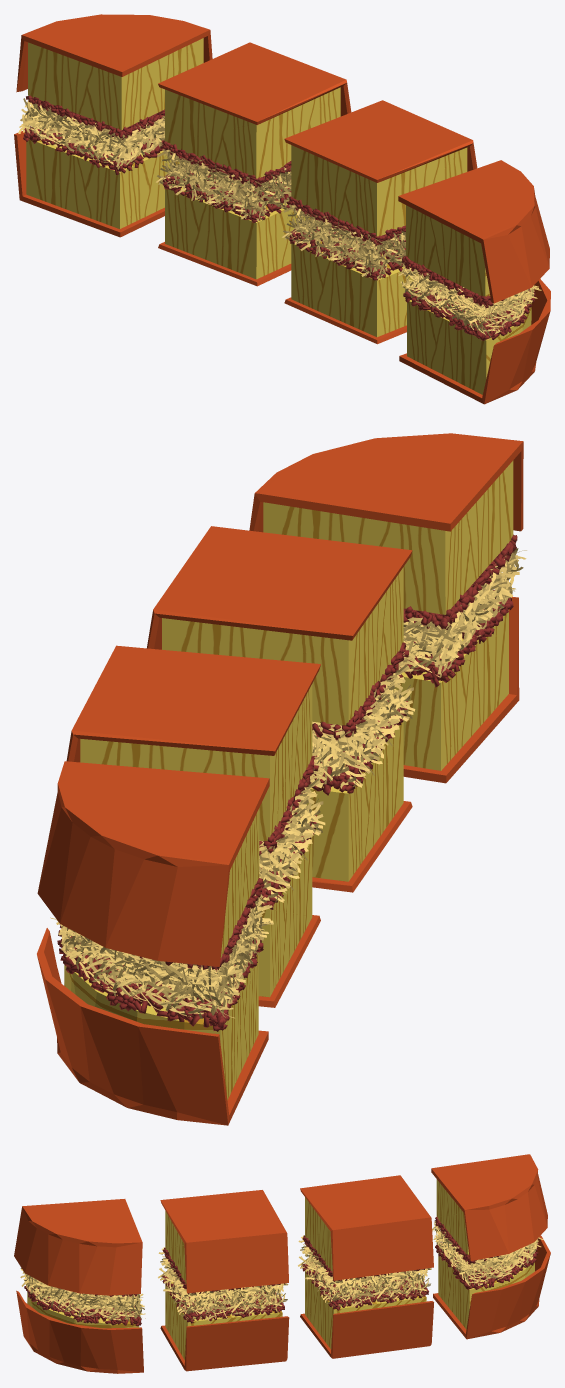
File: Martabak Coaster.glb
The picture shows the model from 3 angles, top to bottom: view 1: azimuth 30°, elevation 25°; view 2: azimuth 150°, elevation 25°; view 3: azimuth 270°, elevation 25°; orthographic projection. The views are drawn at different scales.
Parts seen in each view (by area): view 1: Martabak Coaster; view 2: Martabak Coaster; view 3: Martabak Coaster.
Boxes of the visible parts, <box> form: Martabak Coaster: <box>14,14,550,404</box>; Martabak Coaster: <box>37,433,526,1125</box>; Martabak Coaster: <box>14,1154,550,1373</box>.
Bounding box in the file's own units: 3.93 × 2.48 × 9.32.
4 materials, 1 textured.
